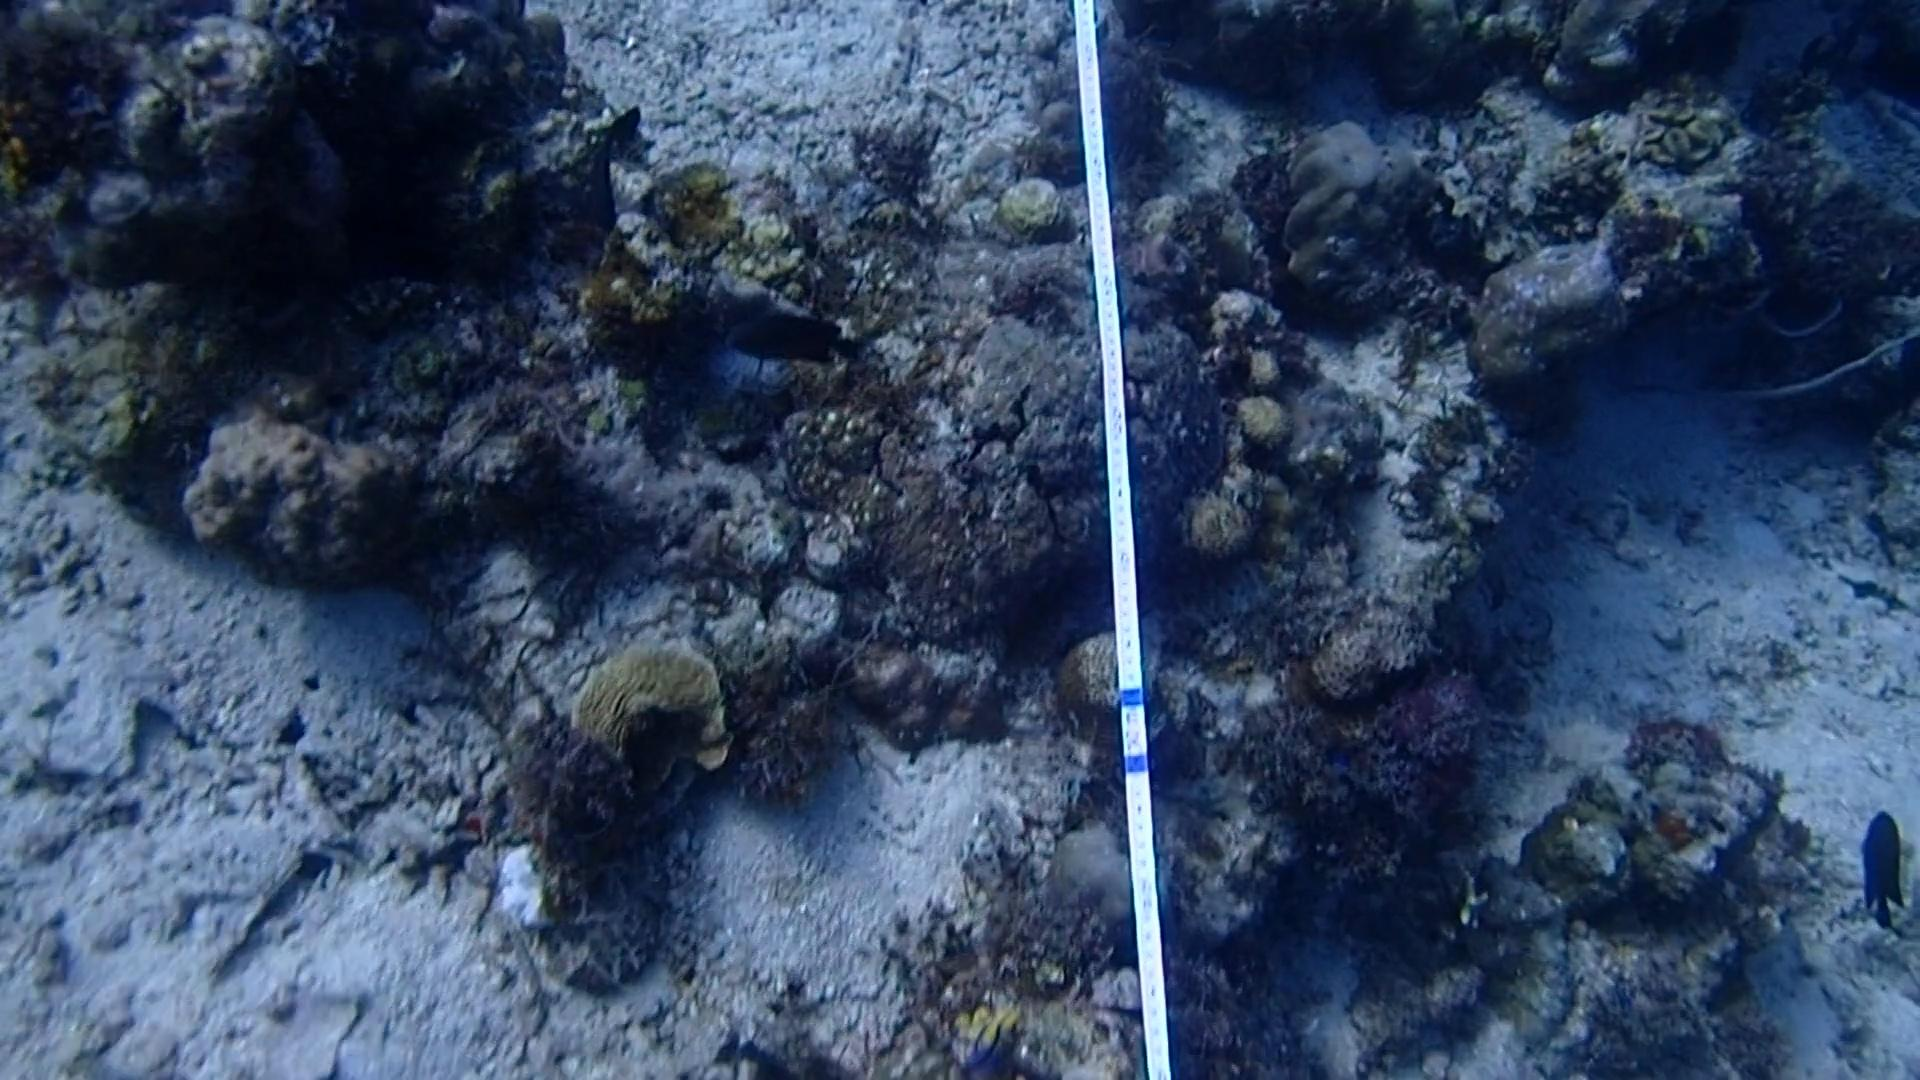Dark Fish: (717, 299, 869, 375), (1838, 803, 1917, 940)
